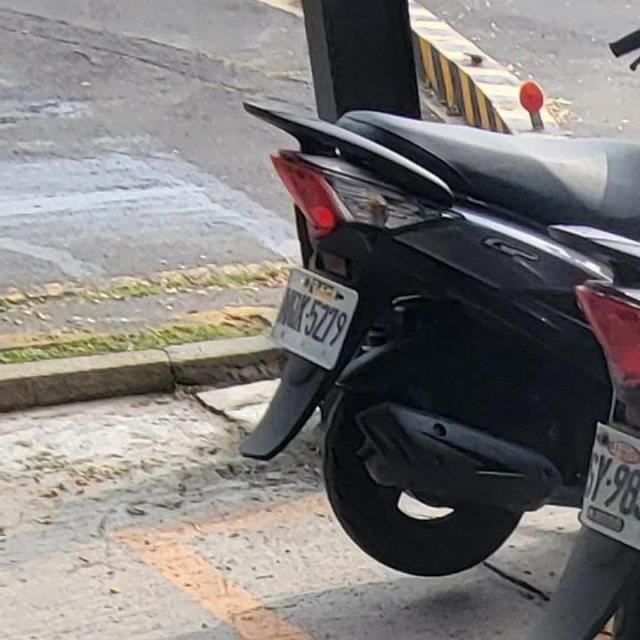W: (266, 257, 368, 374), (570, 418, 640, 584)
